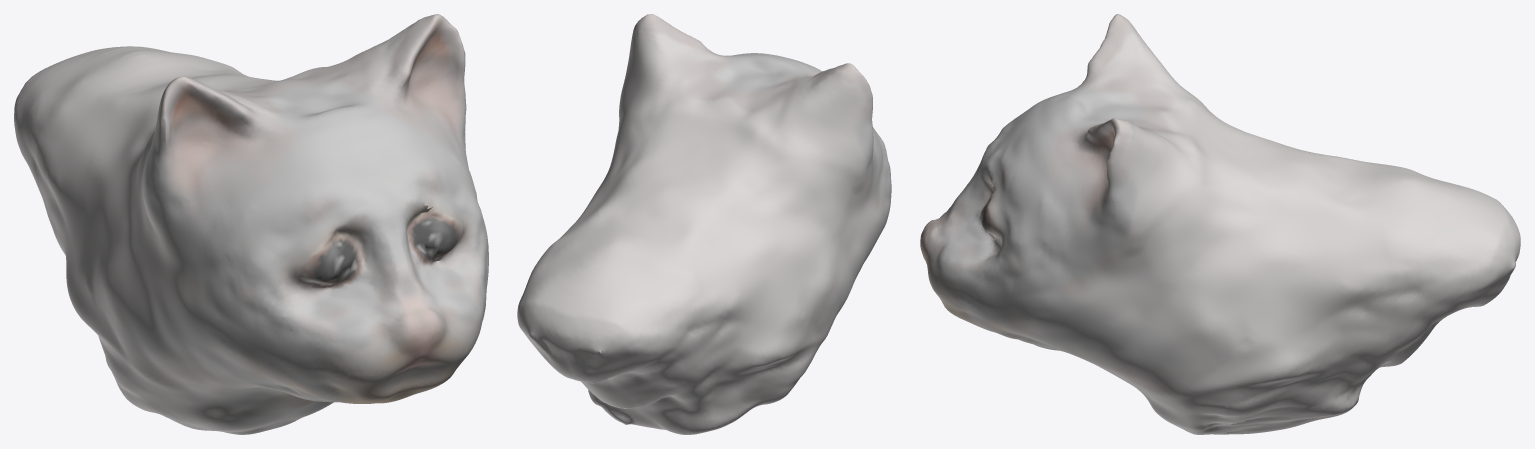
The model's file is crying_cat.glb.
3 renders of one model, left to right at view 1: azimuth 30°, elevation 25°; view 2: azimuth 150°, elevation 25°; view 3: azimuth 270°, elevation 25°, orthographic. The views are drawn at different scales.
Parts seen in each view (by area): view 1: Geode; view 2: Geode; view 3: Geode.
Boxes of the visible parts, <box> form: Geode: <box>14,14,488,434</box>; Geode: <box>517,14,891,434</box>; Geode: <box>920,14,1520,434</box>.
Bounding box in the file's own units: 41.1 × 53.51 × 81.12.
